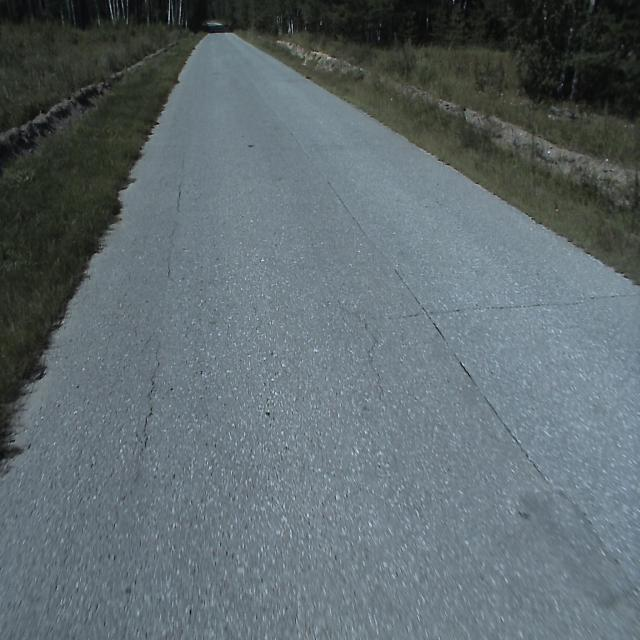road: (0, 32, 640, 639)
